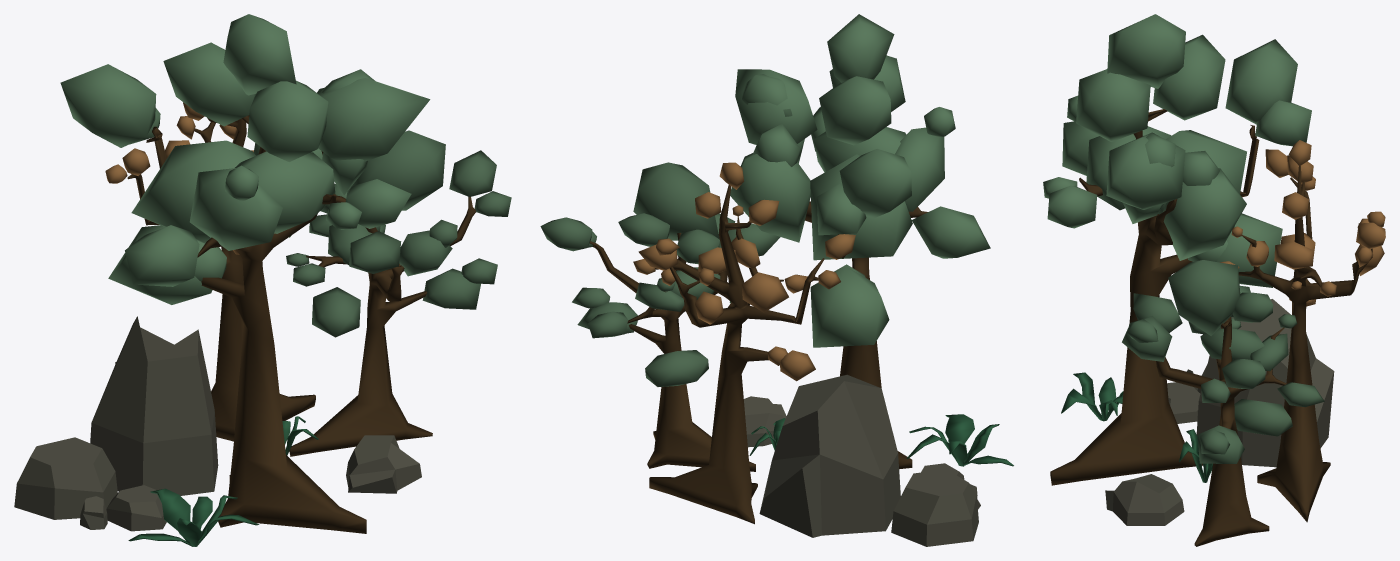
File: set_treesrox_20210129.fbx
3 views of the same model, side by side, from view 1: azimuth 30°, elevation 25°; view 2: azimuth 150°, elevation 25°; view 3: azimuth 270°, elevation 25° (orthographic). The views are drawn at different scales.
Visible parts, largest first — view 1: dead tree.006; view 2: dead tree.006; view 3: dead tree.006.
Boxes of the visible parts, x1,y1,x2,y2 form: dead tree.006: [14, 14, 511, 546]; dead tree.006: [540, 14, 1013, 546]; dead tree.006: [1043, 14, 1385, 546].
Bounding box in the file's own units: 3.74 × 3.7 × 2.59.
